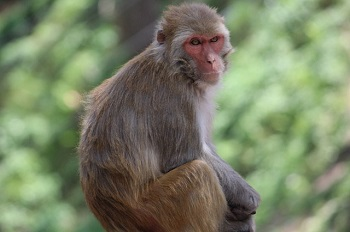monkey: (56, 1, 268, 231)
